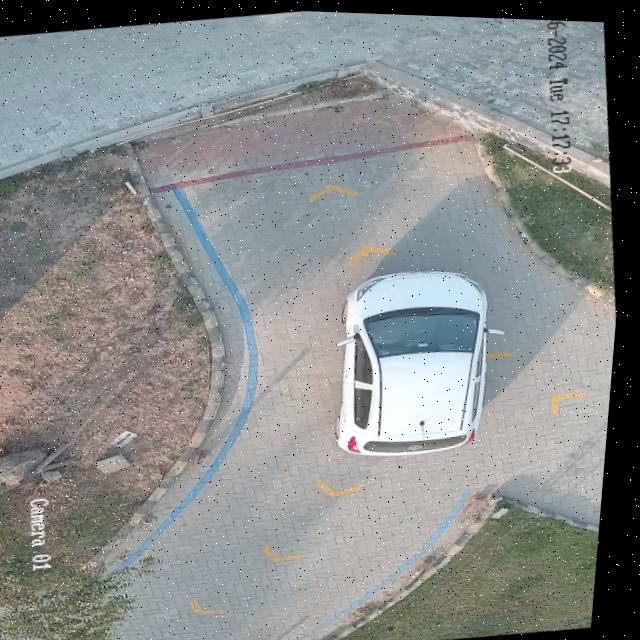car: (384, 348, 477, 432)
